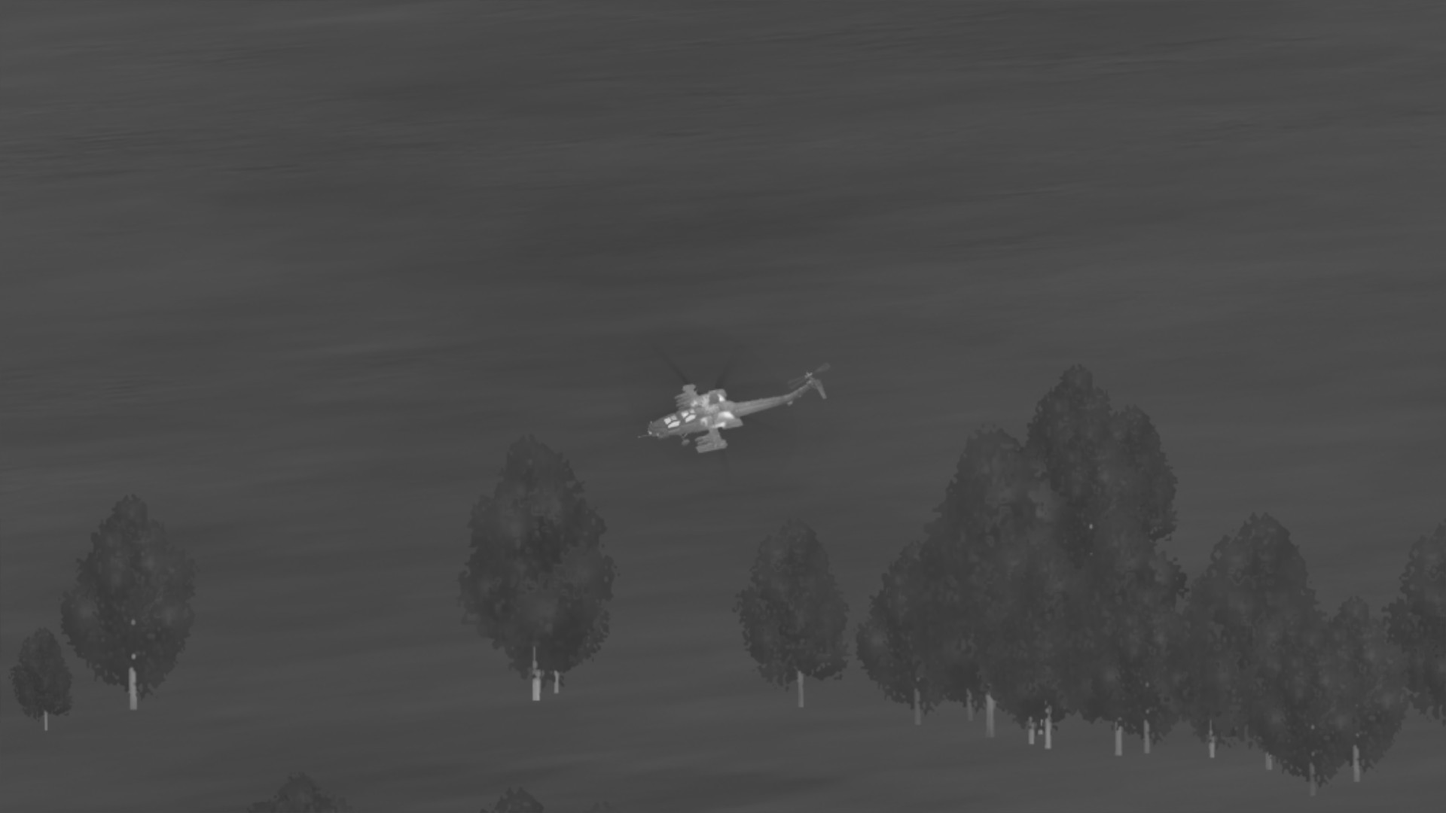mi28: (638, 362, 829, 454)
